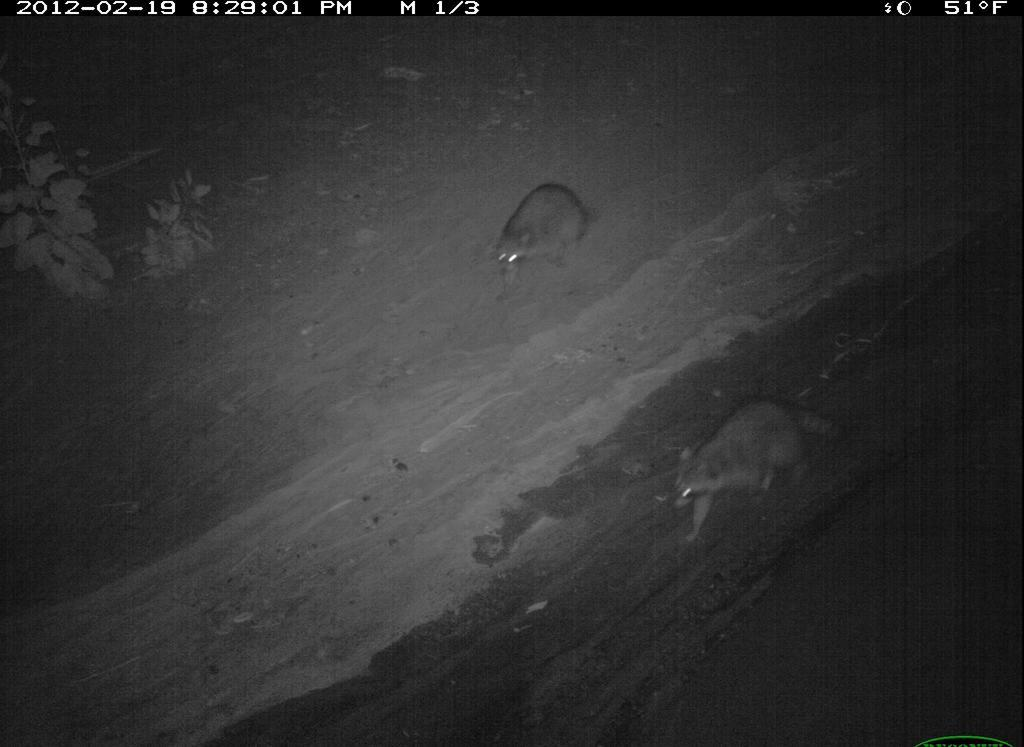raccoon: (970, 354, 1024, 618)
